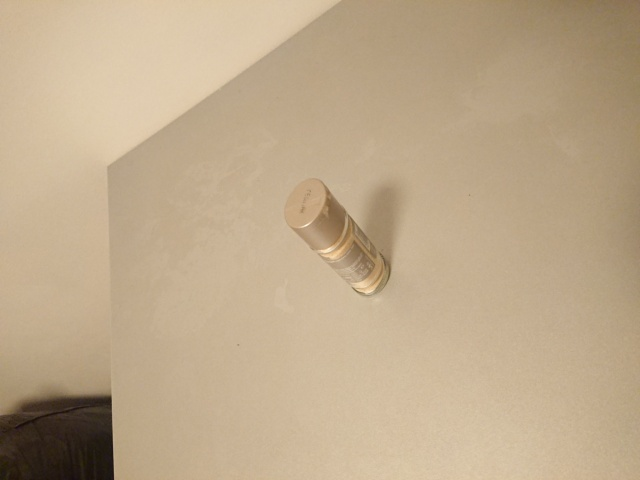Kotanyi Garlic Granules 70g: (281, 176, 393, 299)
